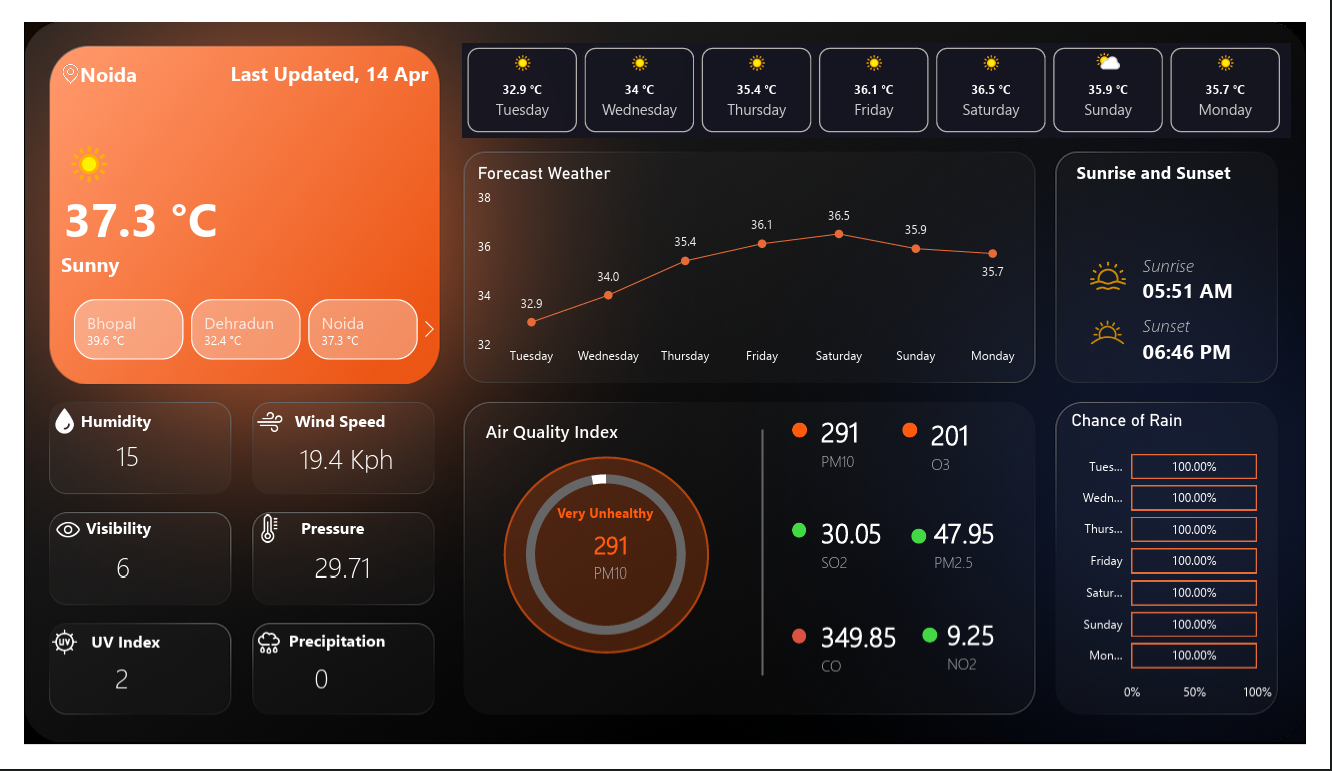

The dashboard page shown, as its layout file describes it:
{"tool":"powerbi","page":{"name":"Page 1","canvas":[1280,720],"ordinal":0},"visuals":[{"type":"shape","box":[478.8,432.5,205,196.2],"z":0},{"type":"advancedSlicerVisual","fields":{"Values":["Location.location.name"]},"box":[24.5,269.9,395.1,69.9],"z":1000},{"type":"shape","box":[40.5,148.9,203.8,90.1],"z":2000},{"type":"shape","box":[36.6,222.1,224.7,34],"z":3000},{"type":"shape","box":[197.3,34,206.4,31.4],"z":4000},{"type":"shape","box":[56.3,34.3,93.3,31.6],"z":5000},{"type":"image","box":[37,34.3,19.2,31.6],"z":6000},{"type":"cardVisual","fields":{"Data":["Min(Current.current.condition.icon)"]},"box":[3.8,92.5,145,95],"z":7000},{"type":"image","box":[24.5,384.1,31.9,27],"z":8000},{"type":"image","box":[229.4,385.3,31.9,27],"z":9000},{"type":"image","box":[24.5,492,38,28.2],"z":10000},{"type":"image","box":[228.6,491.2,31.4,27.4],"z":11000},{"type":"image","box":[24.8,603.6,31.4,27.4],"z":12000},{"type":"image","box":[228.6,604.9,31.4,27.4],"z":13000},{"type":"shape","box":[47,380.2,79.7,31.4],"z":14000},{"type":"shape","box":[241.7,380.2,118.9,31.4],"z":15000},{"type":"shape","box":[47,487.3,79.7,31.4],"z":16000},{"type":"shape","box":[260,487.3,79.7,31.4],"z":17000},{"type":"shape","box":[56.2,600.9,79.7,31.4],"z":18000},{"type":"shape","box":[260,599.6,100.6,31.4],"z":19000},{"type":"cardVisual","fields":{"Data":["Sum(Current.current.humidity)"]},"box":[62.6,396.3,108,67.5],"z":20000},{"type":"cardVisual","fields":{"Data":["_Measures.Wind_Speed"]},"box":[245.9,398.7,158,67.5],"z":21000},{"type":"cardVisual","fields":{"Data":["Sum(Current.current.pressure_in)"]},"box":[261.1,507,126.1,67.5],"z":22000},{"type":"cardVisual","fields":{"Data":["Sum(Current.current.vis_km)"]},"box":[62.6,506.8,108,67.5],"z":23000},{"type":"cardVisual","fields":{"Data":["Sum(Current.current.uv)"]},"box":[62.4,617.8,86.6,67.5],"z":24000},{"type":"cardVisual","fields":{"Data":["Sum(Current.current.precip_in)"]},"box":[261.1,617.8,99.4,67.5],"z":25000},{"type":"advancedSlicerVisual","fields":{"Values":["Forecast_Day.Day_name"]},"box":[438,20,826.8,94.3],"z":26000},{"type":"lineChart","title":"Forecast Weather","fields":{"Y":["Sum(Forecast_Day.forecast.forecastday.day.avgtemp_c)"],"Category":["Forecast_Day.Day_name"]},"box":[448.4,140.1,554.1,210.2],"z":27000},{"type":"shape","title":"Sunrise","box":[1027.1,127.8,178.2,40.5],"z":28000},{"type":"shape","box":[1117.2,211.5,133.8,57.3],"z":29000},{"type":"shape","box":[1117.2,279,133.8,43.3],"z":30000},{"type":"shape","box":[1117.2,245.9,105.7,38.2],"z":31000},{"type":"shape","box":[1117.2,312.1,119.7,28],"z":32000},{"type":"image","box":[1059.9,234.4,44.6,34.4],"z":33000},{"type":"image","box":[1059.9,284.1,44.6,48.4],"z":34000},{"type":"hundredPercentStackedBarChart","title":"Chance of Rain","fields":{"Y":["Sum(Forecast_Day.forecast.forecastday.day.daily_chance_of_rain)","_Measures.Left_value_rain"],"Category":["Forecast_Day.Day_name"]},"box":[1040.7,385.8,210.1,299.8],"z":35000},{"type":"shape","title":"Sunrise","box":[448.5,385.8,145,40.5],"z":36000},{"type":"cardVisual","fields":{"Data":["Sum(Current.current.air_quality.o3)"]},"box":[877.3,374.7,99.5,92.1],"z":37000},{"type":"cardVisual","fields":{"Data":["Sum(Current.current.air_quality.pm2_5)"]},"box":[879.7,473,122.9,92.1],"z":38000},{"type":"cardVisual","fields":{"Data":["Sum(Current.current.air_quality.so2)"]},"box":[766.7,473,119.2,92.1],"z":39000},{"type":"cardVisual","fields":{"Data":["Sum(Current.current.air_quality.pm10)"]},"box":[766.7,372.3,99.5,92.1],"z":40000},{"type":"cardVisual","fields":{"Data":["Sum(Current.current.air_quality.no2)"]},"box":[893.2,573.8,116.7,92.1],"z":41000},{"type":"cardVisual","fields":{"Data":["Sum(Current.current.air_quality.co)"]},"box":[766.7,576.2,137.6,92.1],"z":42000},{"type":"shape","box":[766.7,399.3,15,15],"z":43000},{"type":"shape","box":[766.7,604.5,14.7,14.7],"z":44000},{"type":"shape","box":[766.7,498.8,14.7,14.7],"z":45000},{"type":"shape","box":[877.3,399.3,14.7,14.7],"z":46000},{"type":"shape","box":[885.9,505,14.7,14.7],"z":47000},{"type":"shape","box":[896.9,603.3,14.7,14.7],"z":48000},{"type":"shape","box":[693.8,406.2,87.5,245],"z":49000},{"type":"donutChart","fields":{"Y":["Sum(Current.current.air_quality.pm10)","_Measures.left_pm10_value"]},"box":[446.2,426.2,270,208.8],"z":50000},{"type":"cardVisual","fields":{"Data":["Sum(Current.current.air_quality.pm10)"]},"box":[540,485,100,92.5],"z":51000},{"type":"cardVisual","fields":{"Data":["Sum(Current.current.air_quality.pm10)"]},"box":[521.2,480,118.8,78.8],"z":52000}]}

Visuals, with their boxes in screenshot pixels (x1, y1, x2, y2), scaled from the page's 1280x720 canvas onto the 1332x771 screenshot:
shape: crop(498, 463, 712, 673)
advancedSlicerVisual - Location.location.name: crop(25, 289, 437, 364)
shape: crop(42, 159, 254, 256)
shape: crop(38, 238, 272, 274)
shape: crop(205, 36, 420, 70)
shape: crop(59, 37, 156, 71)
image: crop(39, 37, 58, 71)
cardVisual - Min(Current.current.condition.icon): crop(4, 99, 155, 201)
image: crop(25, 411, 59, 440)
image: crop(239, 413, 272, 442)
image: crop(25, 527, 65, 557)
image: crop(238, 526, 271, 555)
image: crop(26, 646, 58, 676)
image: crop(238, 648, 271, 677)
shape: crop(49, 407, 132, 441)
shape: crop(252, 407, 375, 441)
shape: crop(49, 522, 132, 555)
shape: crop(271, 522, 354, 555)
shape: crop(58, 643, 141, 677)
shape: crop(271, 642, 375, 676)
cardVisual - Sum(Current.current.humidity): crop(65, 424, 178, 497)
cardVisual - _Measures.Wind_Speed: crop(256, 427, 420, 499)
cardVisual - Sum(Current.current.pressure_in): crop(272, 543, 403, 615)
cardVisual - Sum(Current.current.vis_km): crop(65, 543, 178, 615)
cardVisual - Sum(Current.current.uv): crop(65, 662, 155, 734)
cardVisual - Sum(Current.current.precip_in): crop(272, 662, 375, 734)
advancedSlicerVisual - Forecast_Day.Day_name: crop(456, 21, 1316, 122)
"Forecast Weather" lineChart: crop(467, 150, 1043, 375)
"Sunrise" shape: crop(1069, 137, 1254, 180)
shape: crop(1163, 226, 1302, 288)
shape: crop(1163, 299, 1302, 345)
shape: crop(1163, 263, 1273, 304)
shape: crop(1163, 334, 1287, 364)
image: crop(1103, 251, 1149, 288)
image: crop(1103, 304, 1149, 356)
"Chance of Rain" hundredPercentStackedBarChart: crop(1083, 413, 1302, 734)
"Sunrise" shape: crop(467, 413, 618, 456)
cardVisual - Sum(Current.current.air_quality.o3): crop(913, 401, 1016, 500)
cardVisual - Sum(Current.current.air_quality.pm2_5): crop(915, 507, 1043, 605)
cardVisual - Sum(Current.current.air_quality.so2): crop(798, 507, 922, 605)
cardVisual - Sum(Current.current.air_quality.pm10): crop(798, 399, 901, 497)
cardVisual - Sum(Current.current.air_quality.no2): crop(929, 614, 1051, 713)
cardVisual - Sum(Current.current.air_quality.co): crop(798, 617, 941, 716)
shape: crop(798, 428, 813, 444)
shape: crop(798, 647, 813, 663)
shape: crop(798, 534, 813, 550)
shape: crop(913, 428, 928, 443)
shape: crop(922, 541, 937, 557)
shape: crop(933, 646, 949, 662)
shape: crop(722, 435, 813, 697)
donutChart - Sum(Current.current.air_quality.pm10) x _Measures.left_pm10_value: crop(464, 456, 745, 680)
cardVisual - Sum(Current.current.air_quality.pm10): crop(562, 519, 666, 618)
cardVisual - Sum(Current.current.air_quality.pm10): crop(542, 514, 666, 598)
